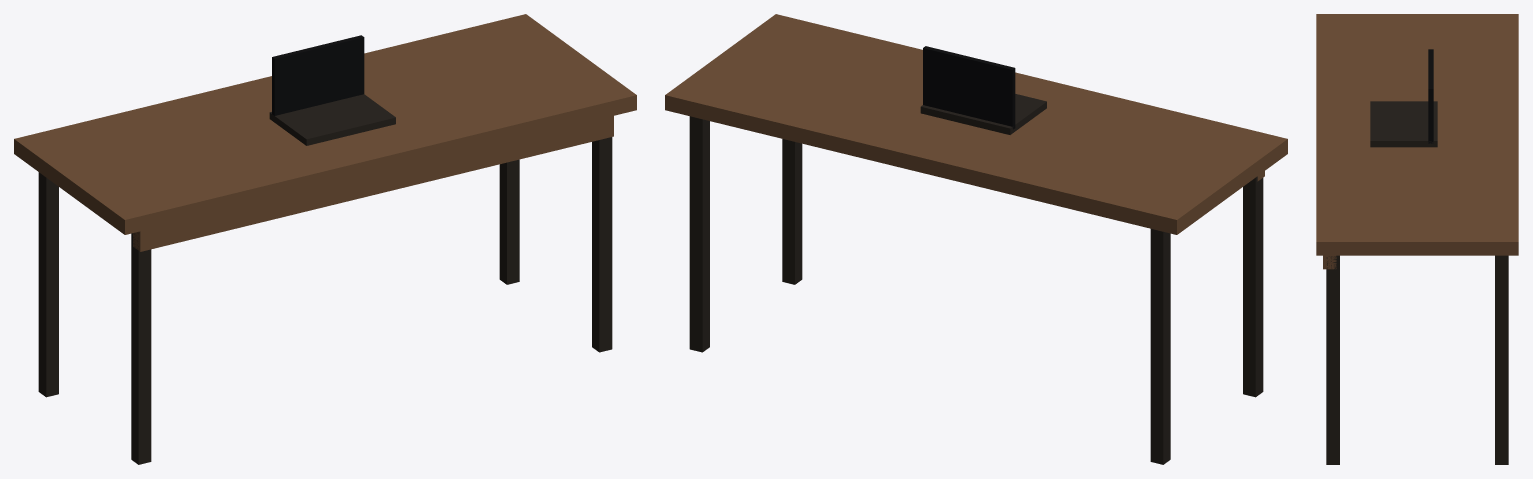
3 views of the same model, side by side, from view 1: azimuth 30°, elevation 25°; view 2: azimuth 150°, elevation 25°; view 3: azimuth 270°, elevation 25° (orthographic). The views are drawn at different scales.
Visible parts, largest first — view 1: desk; view 2: desk; view 3: desk.
Boxes of the visible parts, x1,y1,x2,y2 form: desk: (14,14,636,464); desk: (665,14,1287,464); desk: (1316,14,1518,464).
Bounding box in the file's own units: 1.6 × 0.95 × 0.6.
